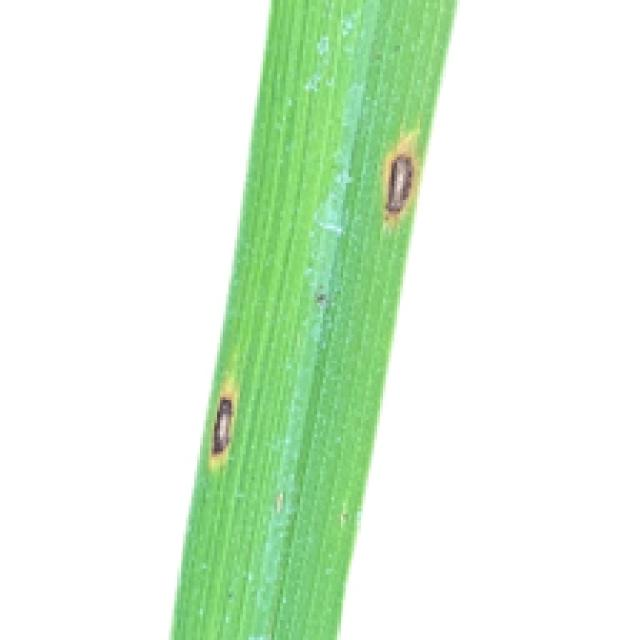Rice___Rice_Blast: (168, 0, 457, 637)
